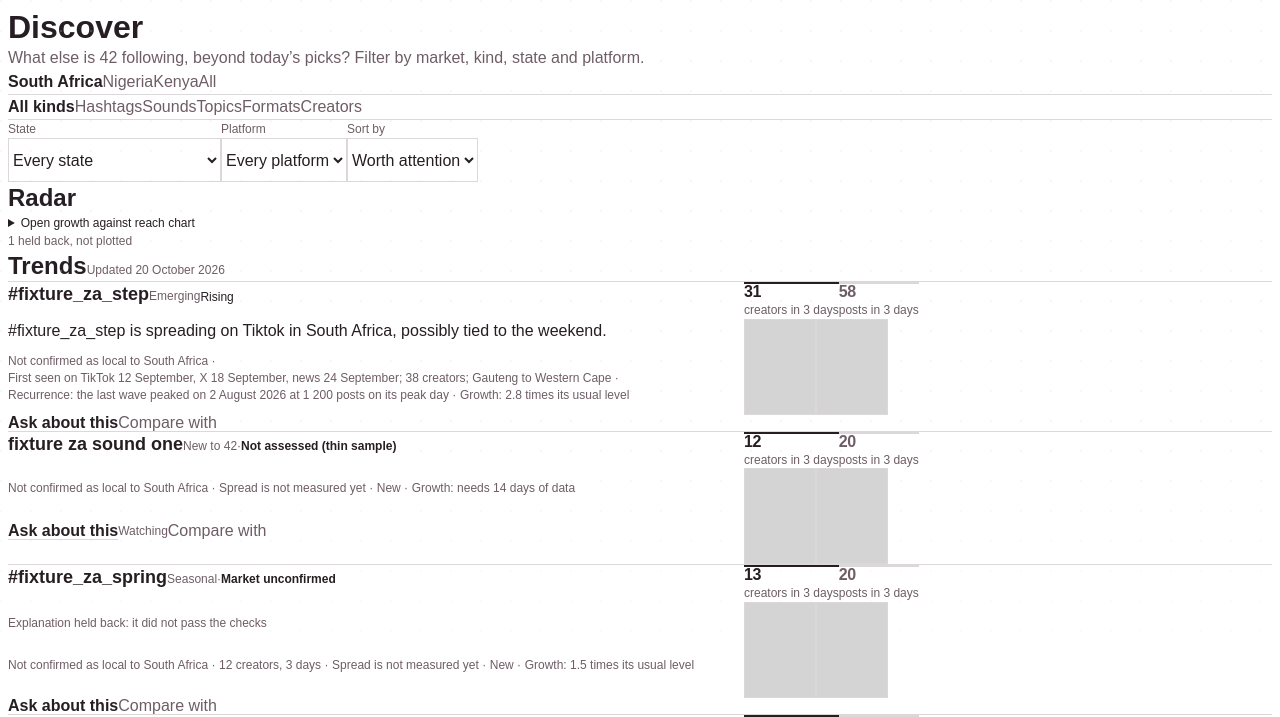
Test: a filter change aborts the older Feed read and its late response cannot replace the newer results
The image size is (1280, 717).
Step 1. Select "Emerging" in the dropdown named "state" → (114, 160), box x1=8 y1=138 x2=221 y2=182
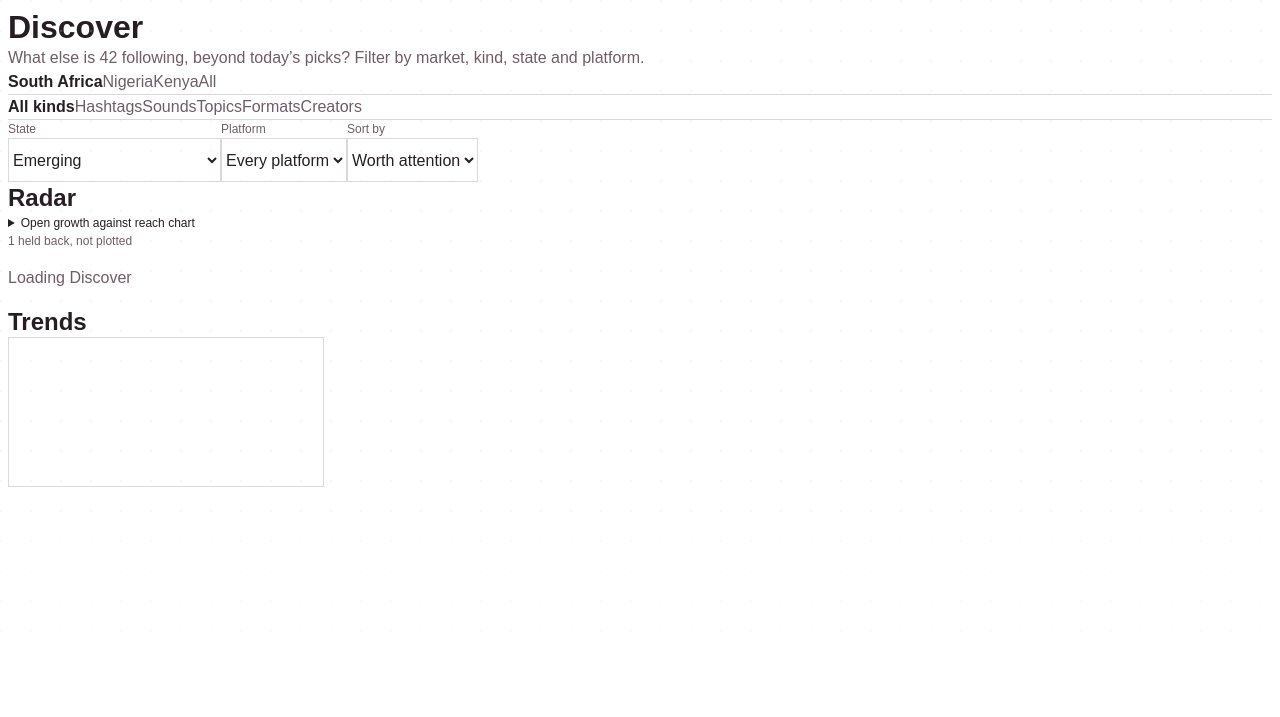
Expected: the element with class "d42-feed" is shown, x1=8 y1=308 x2=324 y2=487
Result: the message "Loading Discover" is shown at x1=8 y1=269 x2=132 y2=286
Step 2. Select "TikTok" in the dropdown named "platform" → (284, 160), box x1=221 y1=138 x2=347 y2=182
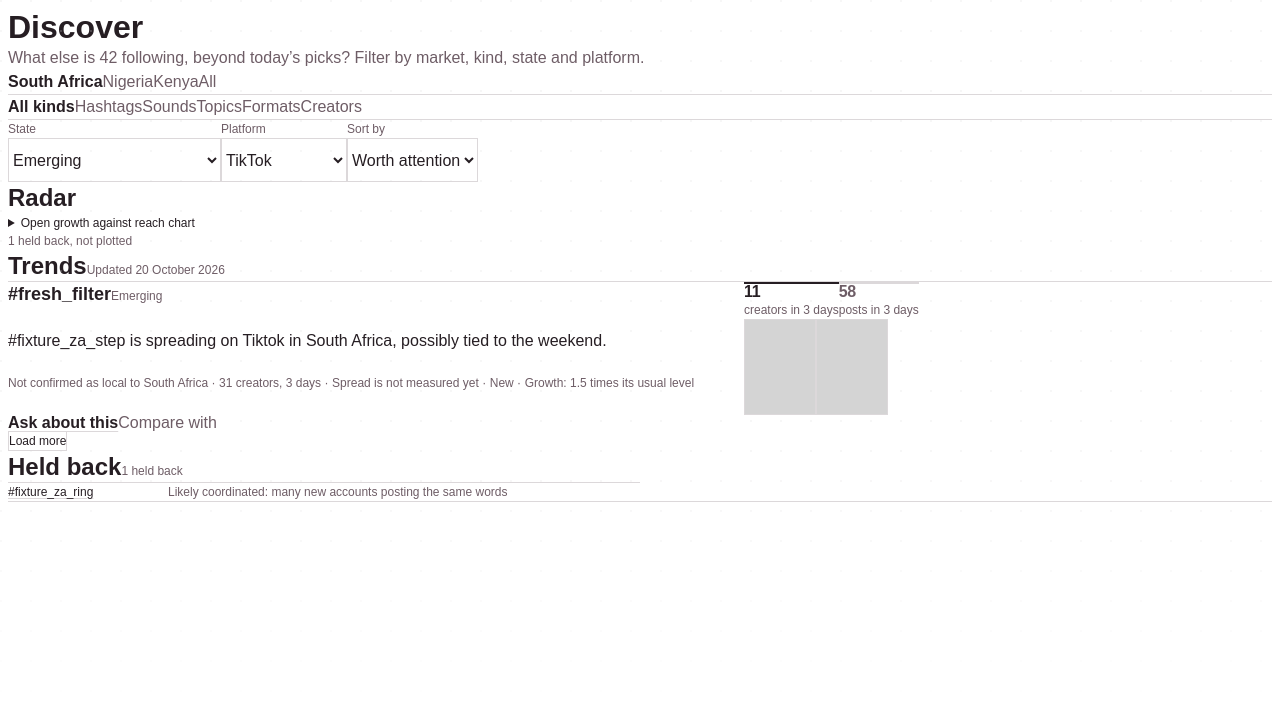
Result: the list item that starts with "#fresh_filter" is shown at x1=8 y1=281 x2=1272 y2=431
